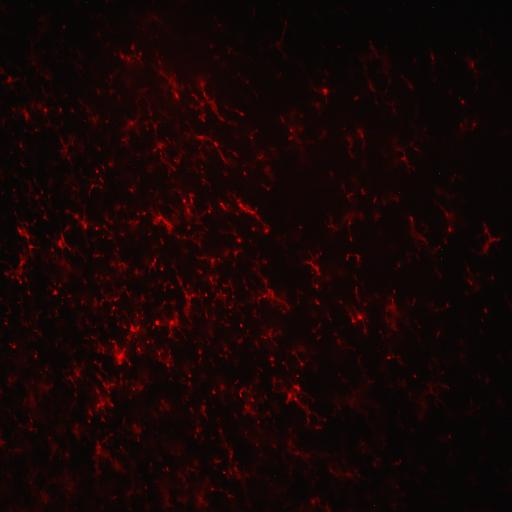microglia: (112, 109, 151, 150), (284, 378, 320, 422), (381, 292, 415, 337), (336, 191, 371, 233), (196, 90, 234, 126), (280, 111, 312, 149), (256, 282, 290, 315), (153, 138, 183, 175), (116, 42, 147, 74), (235, 198, 267, 229), (435, 204, 461, 242), (473, 221, 502, 255), (271, 12, 292, 58), (213, 135, 240, 168), (58, 134, 82, 169), (344, 128, 368, 162), (179, 277, 199, 317), (345, 301, 370, 332), (406, 214, 428, 248), (64, 359, 90, 387), (179, 196, 202, 226), (287, 442, 315, 466), (92, 388, 113, 420), (118, 109, 142, 136), (111, 340, 132, 370), (224, 44, 257, 63), (46, 232, 72, 255), (167, 71, 185, 103), (163, 310, 182, 340), (364, 68, 378, 106), (295, 493, 322, 512), (0, 74, 22, 96), (110, 255, 132, 277), (463, 53, 484, 76), (312, 84, 332, 108), (382, 350, 408, 368), (152, 212, 174, 233), (324, 210, 342, 234), (396, 150, 415, 172), (36, 487, 55, 508), (251, 251, 269, 273), (462, 262, 477, 288), (458, 116, 479, 134), (88, 169, 105, 191), (70, 422, 86, 445), (367, 36, 380, 63), (401, 72, 415, 96), (25, 181, 39, 204), (224, 104, 248, 117), (15, 227, 39, 240), (194, 76, 209, 96), (232, 247, 246, 268), (196, 130, 210, 151), (196, 254, 217, 267), (306, 259, 320, 278), (129, 420, 146, 435), (154, 140, 170, 155), (150, 120, 166, 134), (182, 364, 198, 378), (26, 242, 40, 258), (10, 183, 20, 204), (19, 107, 32, 123), (357, 437, 370, 453), (216, 426, 229, 442), (426, 299, 438, 316), (220, 341, 237, 353), (19, 424, 39, 434), (18, 137, 29, 155), (92, 358, 106, 372), (450, 169, 463, 184), (10, 210, 23, 225), (439, 301, 455, 313), (132, 267, 146, 280), (118, 444, 131, 458), (182, 380, 195, 394), (440, 430, 455, 442), (24, 411, 39, 423), (200, 402, 209, 422), (148, 256, 159, 272), (298, 357, 311, 370), (108, 304, 120, 318), (126, 184, 140, 196), (392, 456, 404, 469), (81, 218, 92, 232), (30, 348, 41, 362), (408, 370, 421, 381), (127, 435, 142, 444), (93, 86, 104, 98), (70, 210, 81, 222), (40, 180, 46, 202), (346, 253, 359, 263), (136, 341, 144, 357), (234, 466, 242, 482), (56, 104, 66, 116), (312, 298, 324, 308), (42, 211, 52, 223), (130, 378, 137, 395), (64, 449, 73, 462), (196, 348, 204, 362), (252, 87, 260, 101), (209, 485, 223, 493), (221, 289, 228, 305), (194, 425, 205, 435), (94, 144, 105, 154), (218, 352, 230, 361), (117, 93, 124, 108), (92, 252, 105, 260), (107, 88, 117, 98), (225, 491, 235, 501), (221, 469, 228, 483), (138, 379, 144, 395), (206, 43, 219, 50), (25, 219, 38, 226), (224, 446, 235, 454), (16, 274, 23, 286), (203, 306, 209, 320), (168, 279, 175, 291), (167, 346, 173, 360), (25, 288, 34, 297), (162, 466, 172, 474), (96, 441, 102, 454), (103, 387, 112, 395), (202, 290, 210, 299), (237, 322, 246, 330), (196, 268, 205, 276), (317, 321, 325, 330), (107, 160, 116, 168), (2, 317, 8, 329), (130, 324, 139, 332), (212, 54, 222, 61), (243, 79, 253, 86), (188, 193, 195, 203), (215, 290, 221, 301), (149, 461, 154, 474), (242, 429, 250, 437), (228, 301, 236, 309), (233, 377, 241, 385), (104, 116, 110, 126), (317, 334, 325, 341), (308, 327, 316, 334), (165, 361, 172, 369), (248, 396, 256, 403), (236, 70, 245, 76), (254, 441, 261, 448), (226, 454, 238, 458), (66, 292, 72, 300), (199, 115, 205, 122), (293, 385, 300, 391), (256, 420, 262, 426), (211, 301, 216, 308), (360, 188, 365, 194), (10, 342, 15, 348), (351, 317, 356, 323), (144, 484, 148, 491), (155, 320, 160, 325), (372, 197, 376, 203), (436, 331, 440, 337), (232, 294, 236, 300), (53, 290, 57, 295), (239, 391, 243, 396), (237, 238, 241, 243), (483, 308, 487, 313), (354, 96, 358, 100), (270, 357, 274, 361), (392, 289, 396, 293), (96, 403, 100, 407), (212, 390, 216, 394), (289, 128, 293, 132), (461, 99, 464, 104), (315, 284, 318, 289), (44, 108, 47, 112), (139, 52, 142, 56), (243, 171, 246, 175), (183, 199, 186, 203), (296, 374, 299, 378), (355, 286, 357, 291), (166, 466, 168, 471), (158, 352, 161, 355), (96, 170, 98, 174), (63, 24, 65, 28), (298, 226, 302, 228), (350, 237, 352, 241), (88, 419, 90, 423), (64, 240, 64, 241)
